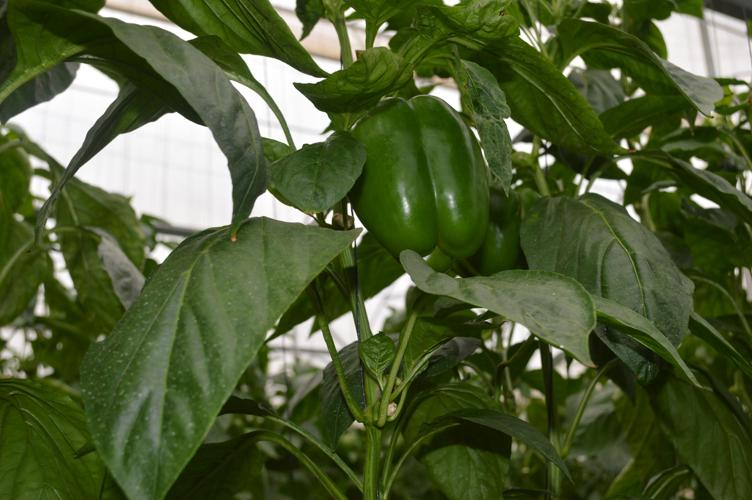BellPepper: (326, 97, 490, 262)
